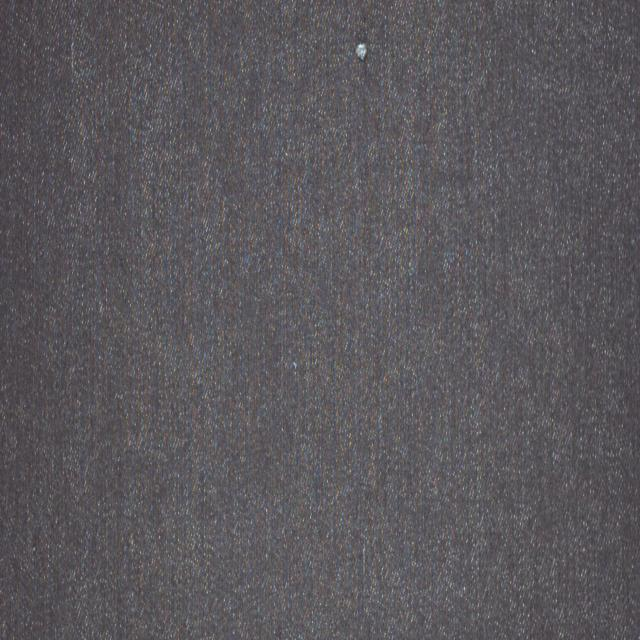Knot: (356, 42, 368, 60)
